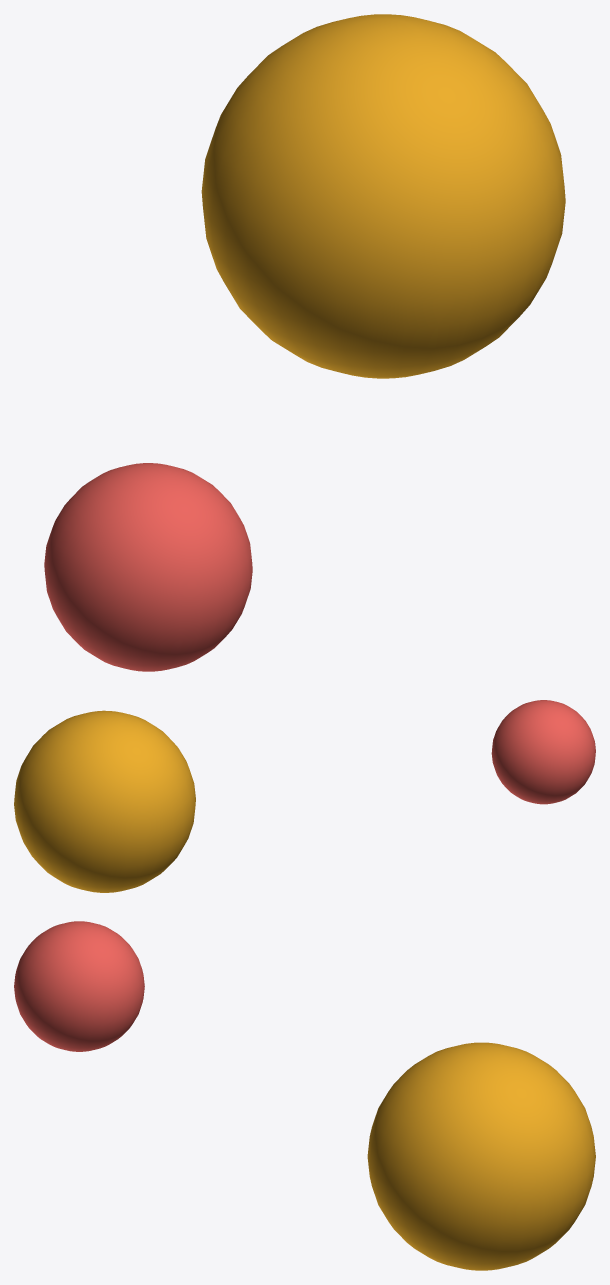
File: bodies.glb
The picture shows the model from 3 angles, top to bottom: view 1: azimuth 30°, elevation 25°; view 2: azimuth 150°, elevation 25°; view 3: azimuth 270°, elevation 25°; orthographic projection. The views are drawn at different scales.
Visible parts, largest first — view 1: Sphere, Sphere.001; view 2: Sphere, Sphere.001; view 3: Sphere, Sphere.001.
Part boxes in pixels (left/top/right/bottom): Sphere: left=201, top=14, right=565, bottom=378; Sphere.001: left=44, top=463, right=252, bottom=671; Sphere: left=14, top=710, right=195, bottom=892; Sphere.001: left=491, top=700, right=595, bottom=804; Sphere: left=367, top=1042, right=595, bottom=1270; Sphere.001: left=14, top=921, right=144, bottom=1051.
Size of the model in its own units: 5.09 by 2 by 5.09.
